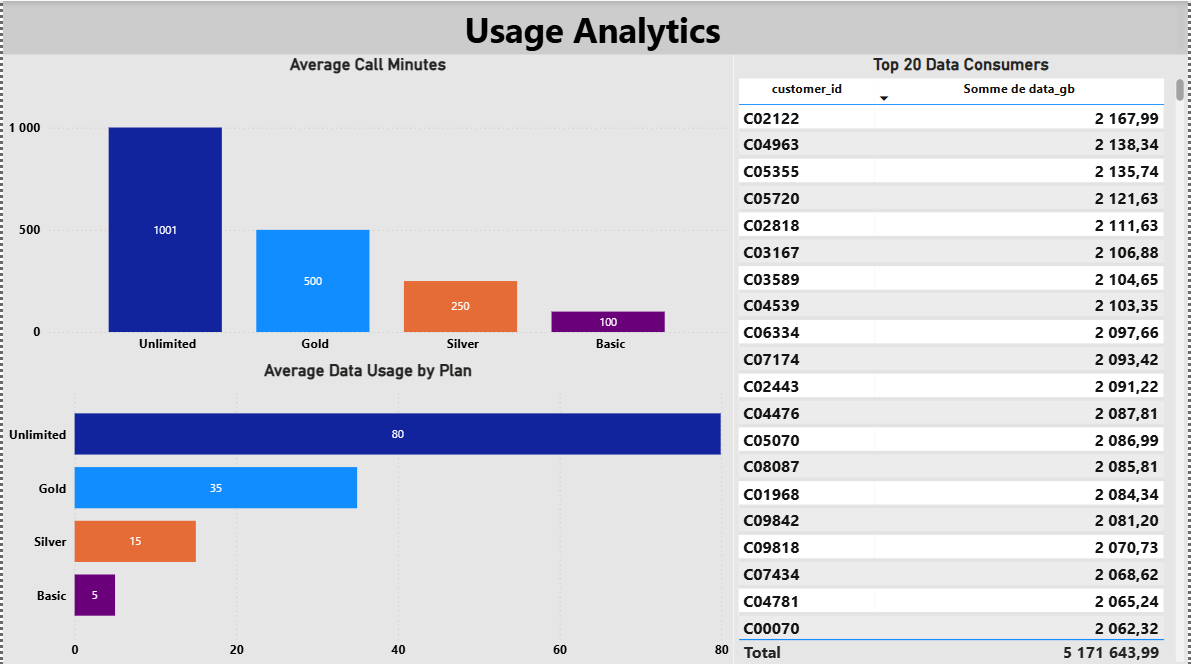

Layout of this report page (visuals, bound fields, positions):
{"tool":"powerbi","page":{"name":"Page 3","canvas":[1280,720],"ordinal":2},"visuals":[{"type":"textbox","box":[0,0,1280.8,58.3],"z":0},{"type":"barChart","title":"Average Data Usage by Plan","fields":{"Category":["plans.plan_name"],"Y":["usage.Average Data Usage"],"Series":["plans.plan_name"]},"box":[0,389.3,788,330.7],"z":1},{"type":"columnChart","title":"Average Call Minutes","fields":{"Category":["plans.plan_name"],"Y":["Avg(usage.call_minutes)"],"Series":["plans.plan_name"]},"box":[0,58.6,788,330.7],"z":2},{"type":"tableEx","title":"Top 20 Data Consumers","fields":{"Values":["usage.customer_id","Sum(usage.data_gb)"]},"box":[788,58.6,491.3,661.4],"z":3}]}

Visuals, with their boxes in screenshot pixels (x1, y1, x2, y2), scaled from the page's 1280x720 canvas onto the 1191x664 screenshot:
textbox: select_region(0, 0, 1190, 54)
"Average Data Usage by Plan" barChart: select_region(0, 359, 733, 663)
"Average Call Minutes" columnChart: select_region(0, 54, 733, 359)
"Top 20 Data Consumers" tableEx: select_region(733, 54, 1190, 663)
